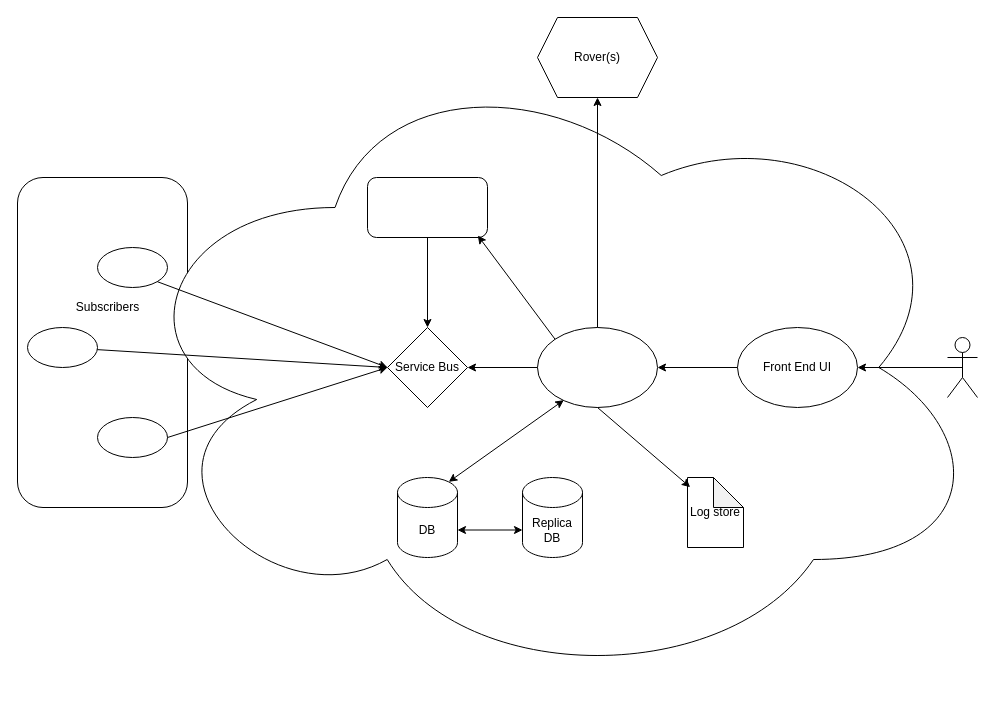
This 1005x705 diagram has some shape labels left out. Here are the shapes that lost their labels. From the top down, the centre of each, then its label:
At [427,207]: "Event Store".
At [597,367]: "API".
At [962,367]: "User".
